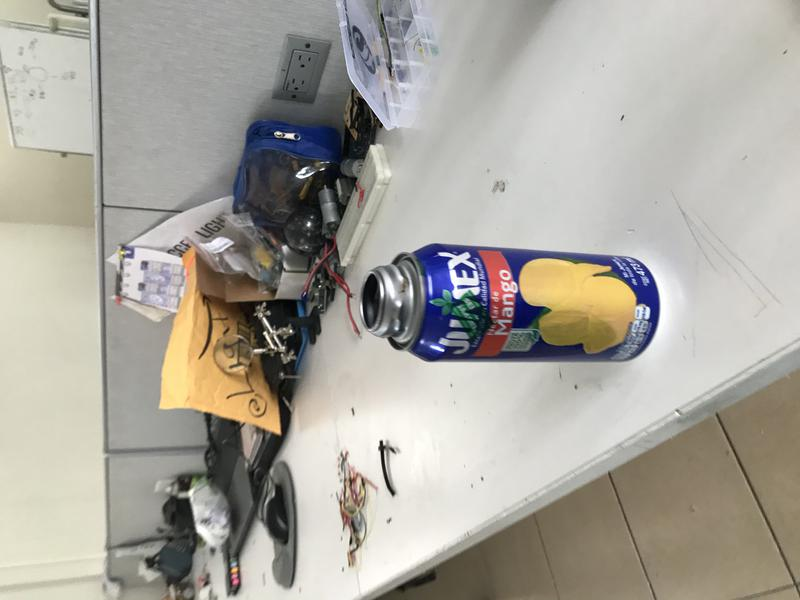jumex_botella: (359, 244, 660, 363)
